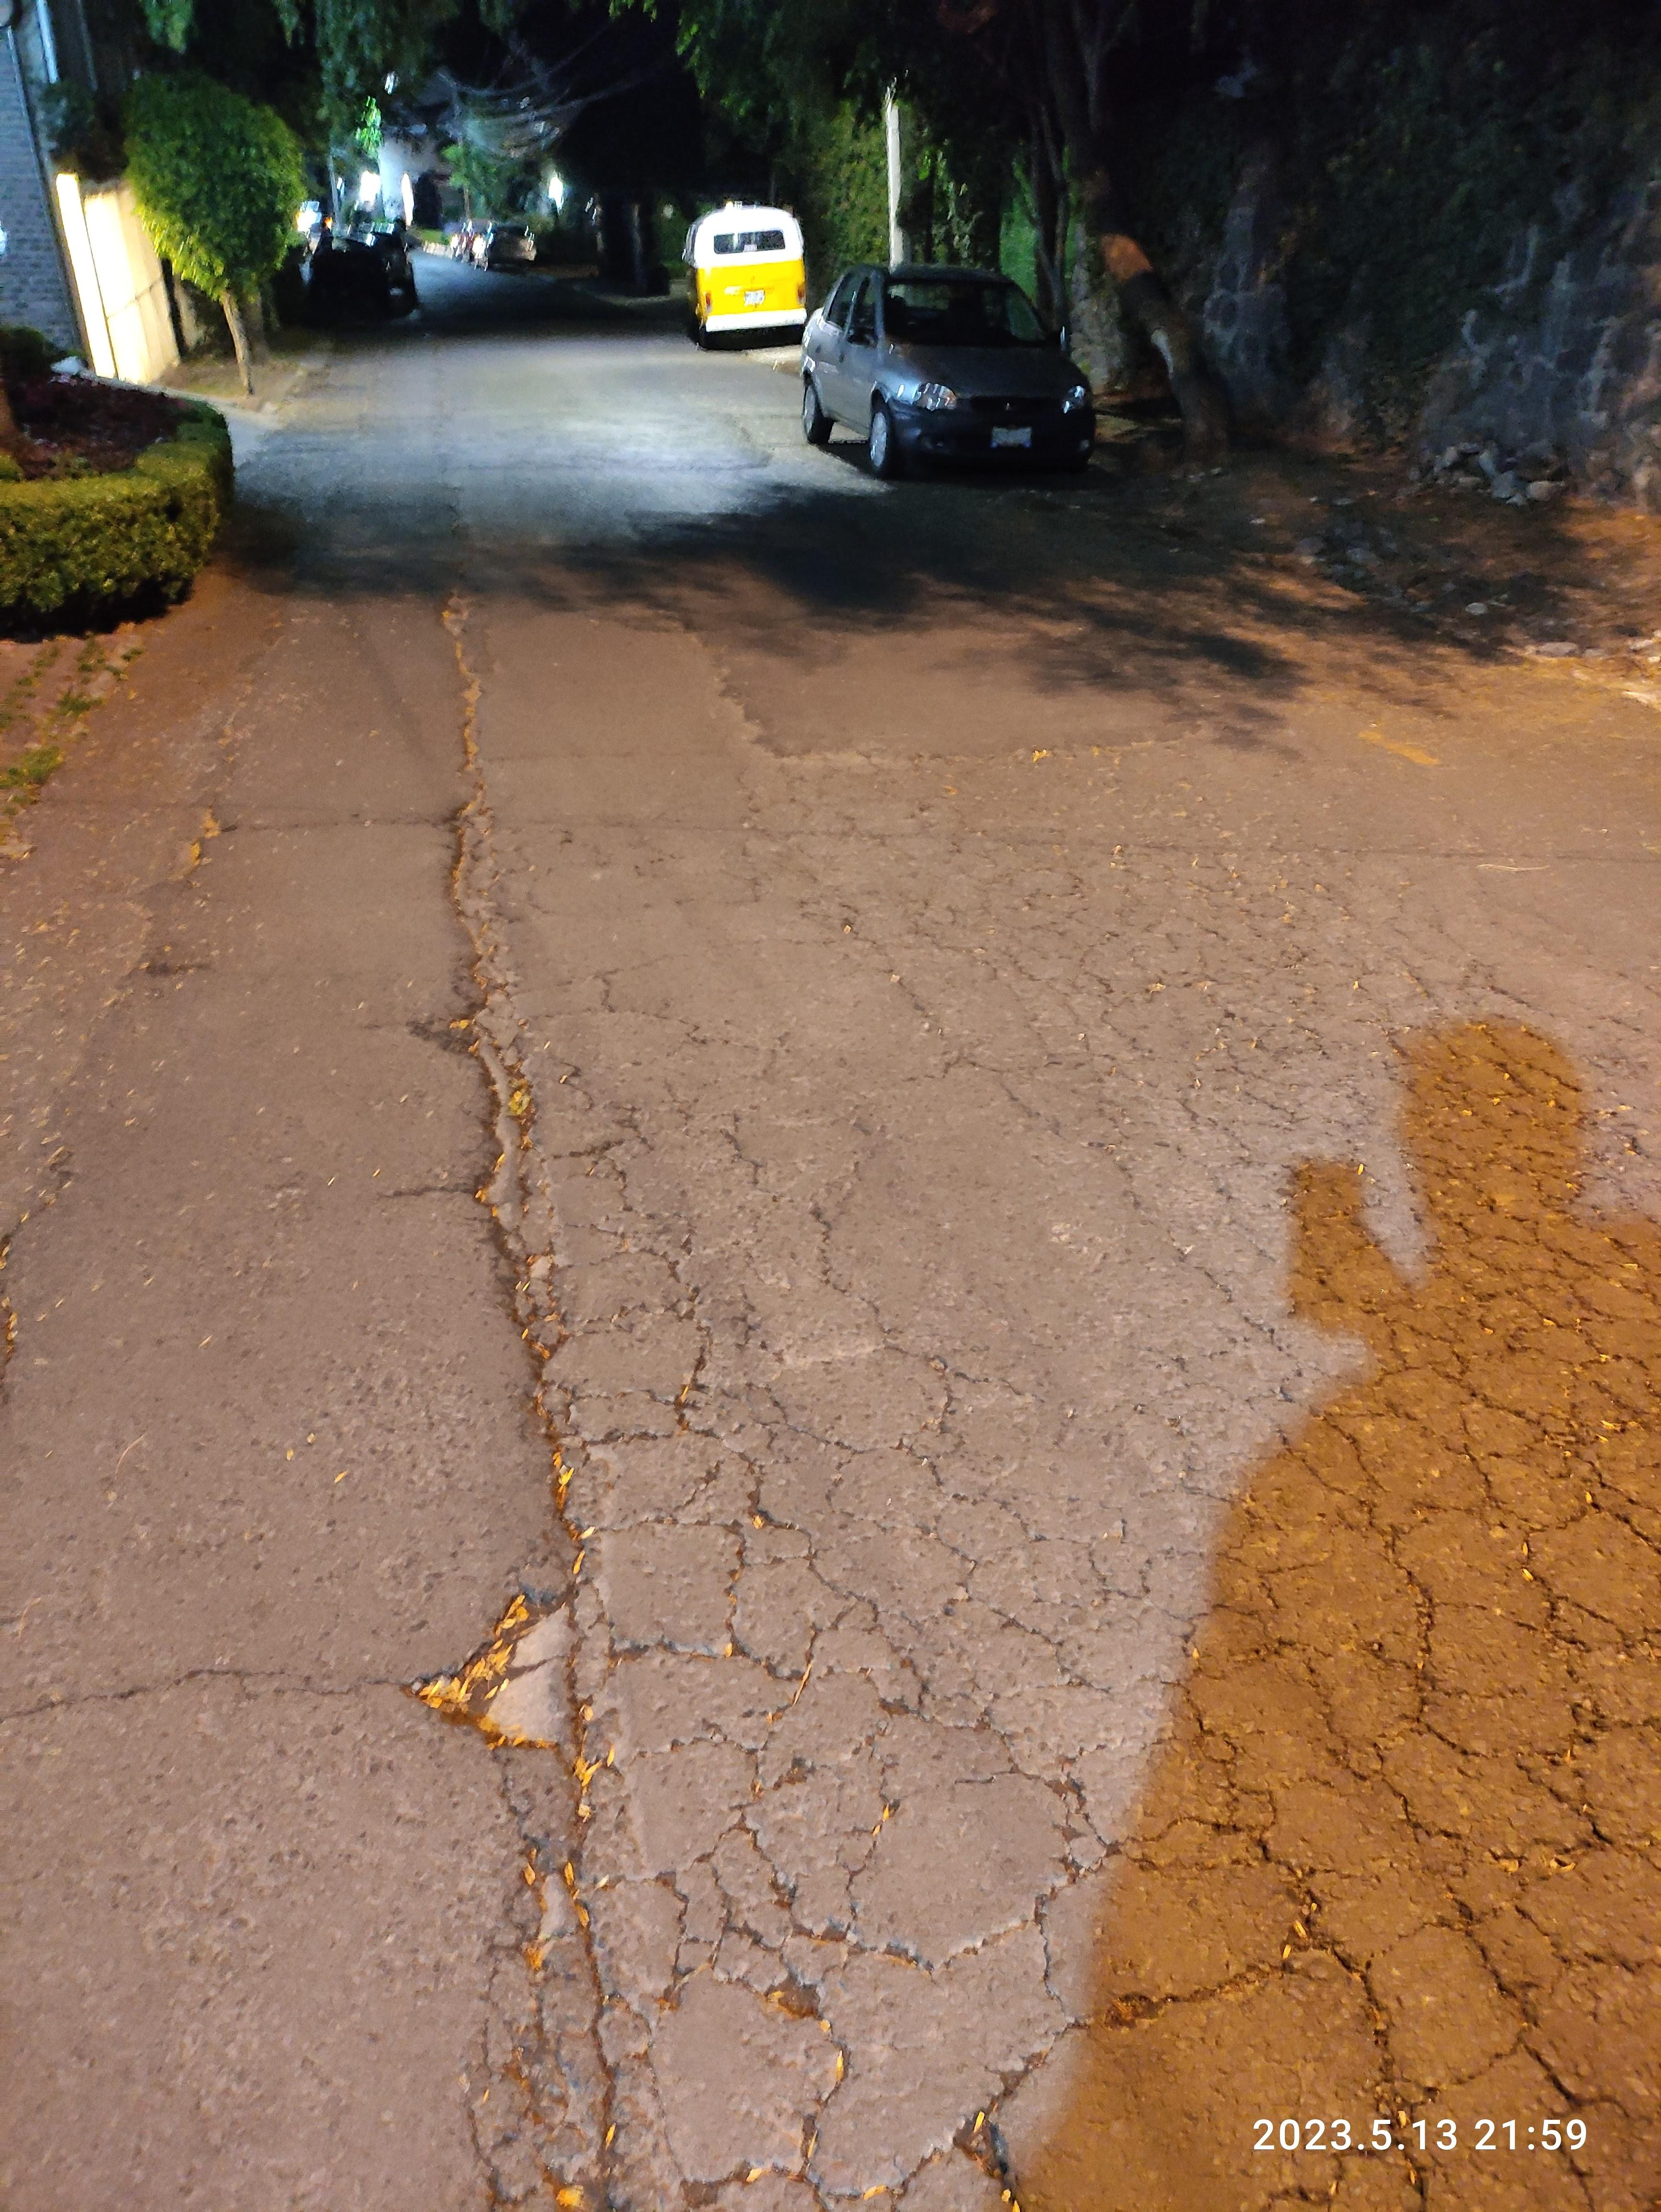alligator-crack: (541, 1158, 1087, 2212), (1040, 1130, 1661, 1816), (1029, 1628, 1661, 2212), (1111, 963, 1661, 1307), (1347, 1027, 1408, 1034)
crack: (796, 843, 1661, 1104), (403, 752, 513, 1392), (489, 1804, 628, 2212), (0, 1645, 541, 1732)
